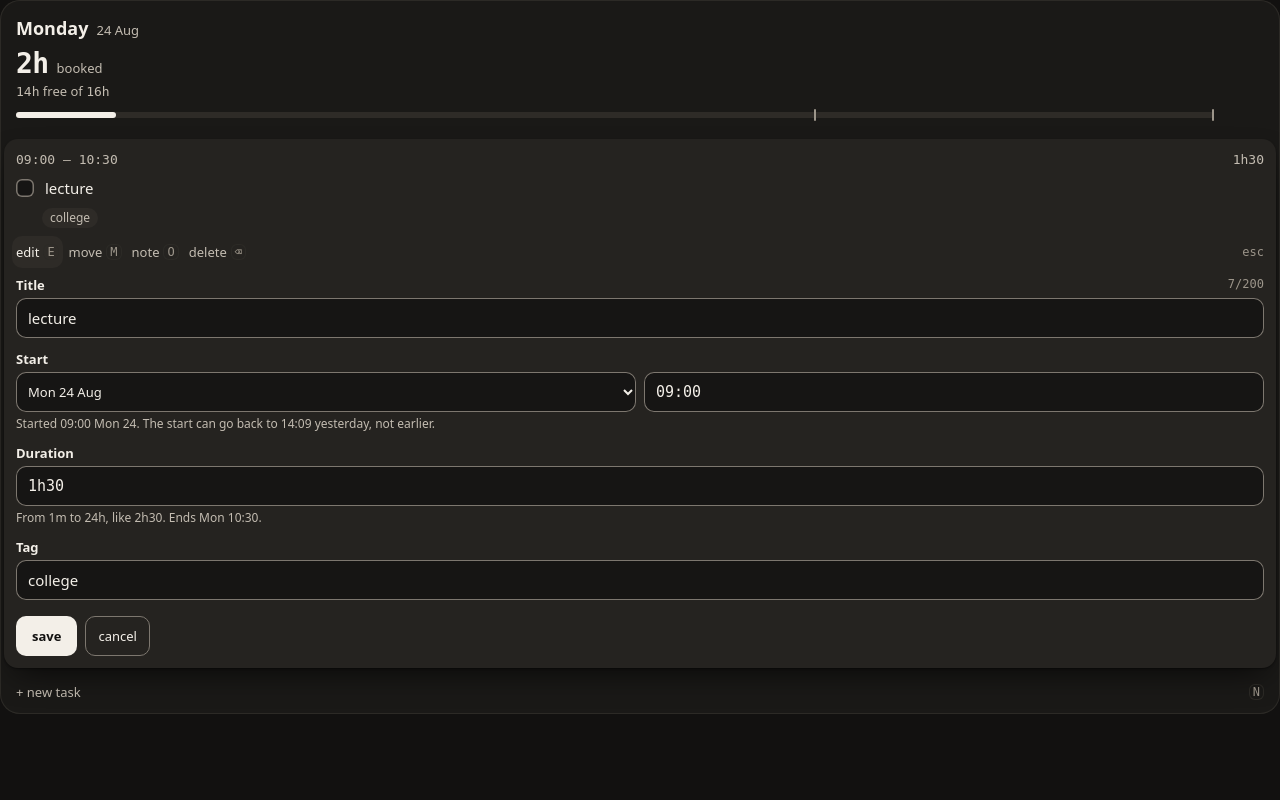
Test: the two verbs an opened row offers › refuses a clock time it cannot read, at the field, before asking the server
Replace the text in the field labelled "Start" with "half nine" at (954, 392), box [644, 372, 1264, 412]
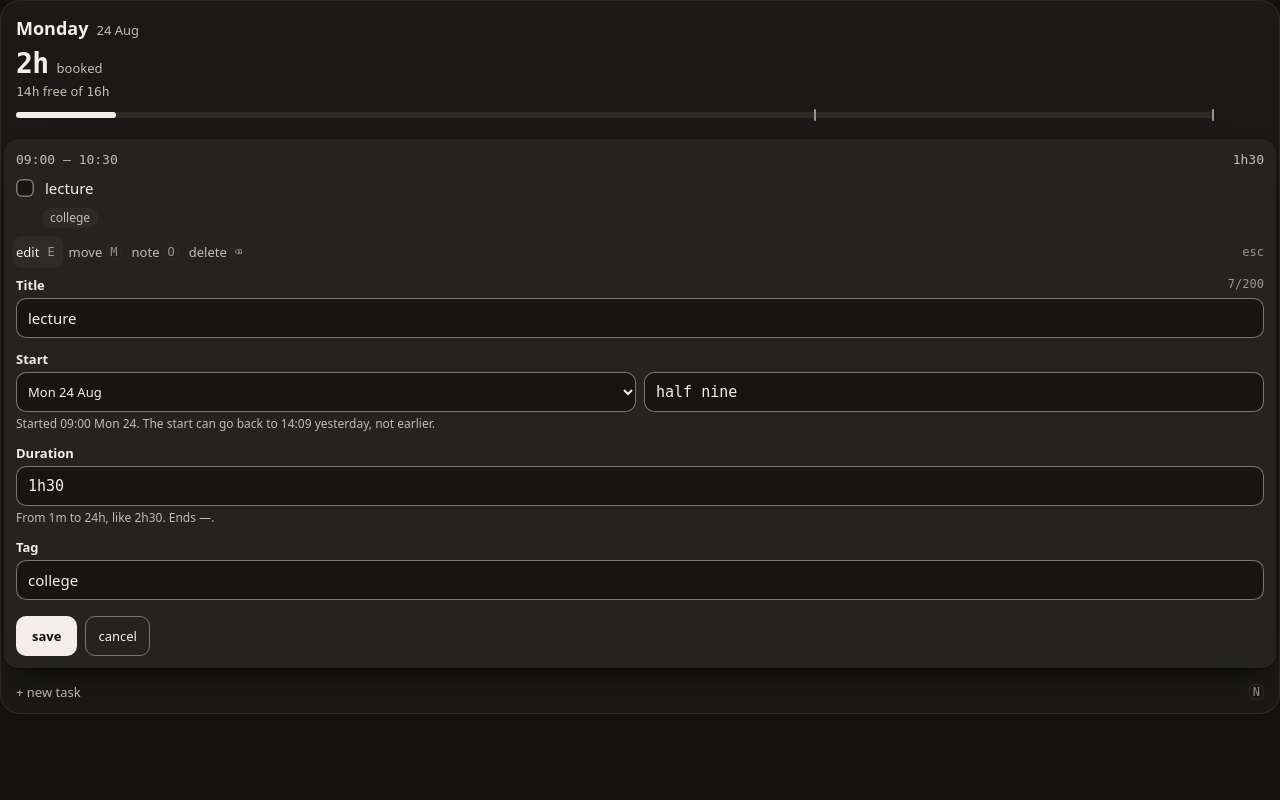
Click the button "save" at (47, 636), box [16, 616, 77, 656]
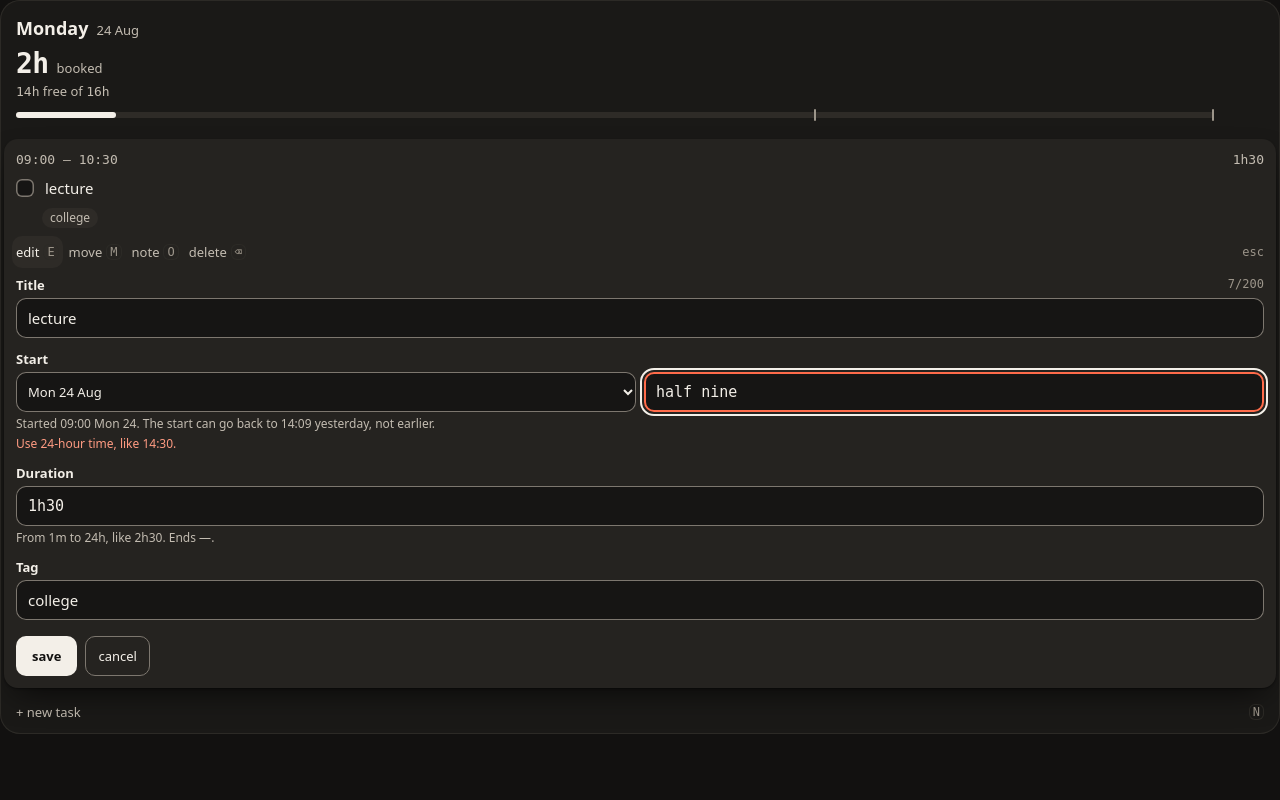
Expected: the text "Use 24-hour time, like 14:30." is shown, [16, 435, 176, 452]
